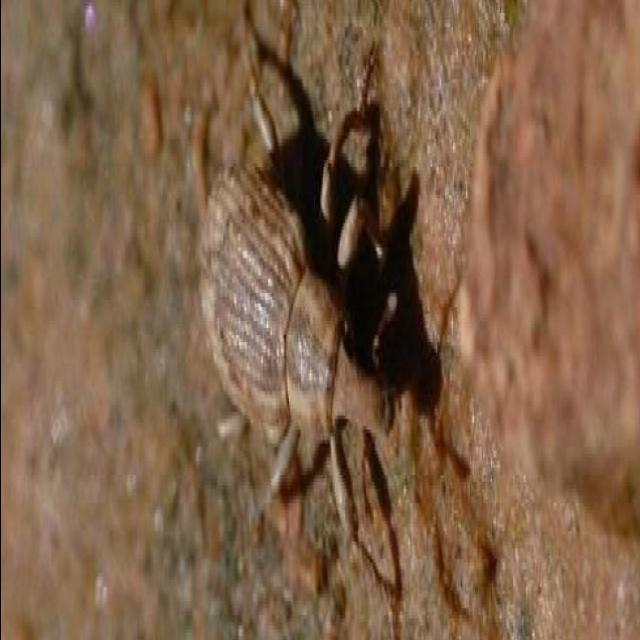ricebug: (199, 19, 407, 539)
